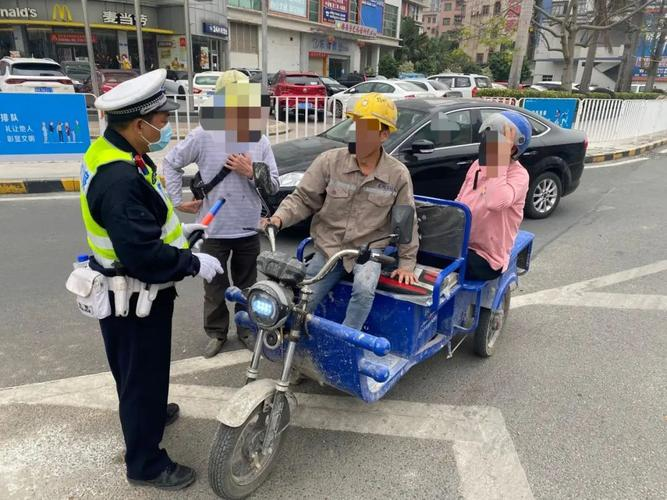driver: (292, 93, 421, 360)
overloading: (202, 71, 546, 497)
passenger: (182, 72, 279, 353), (450, 101, 528, 351)
